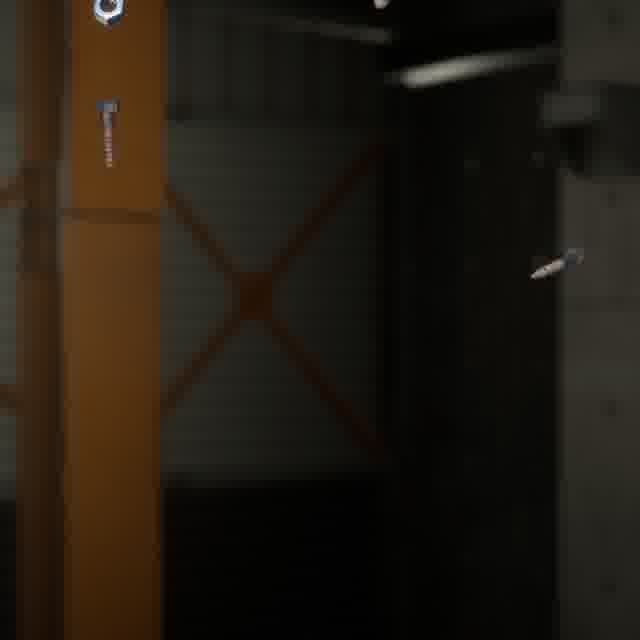bolt: (88, 95, 124, 173), (526, 241, 590, 283)
nut: (88, 0, 129, 30)
